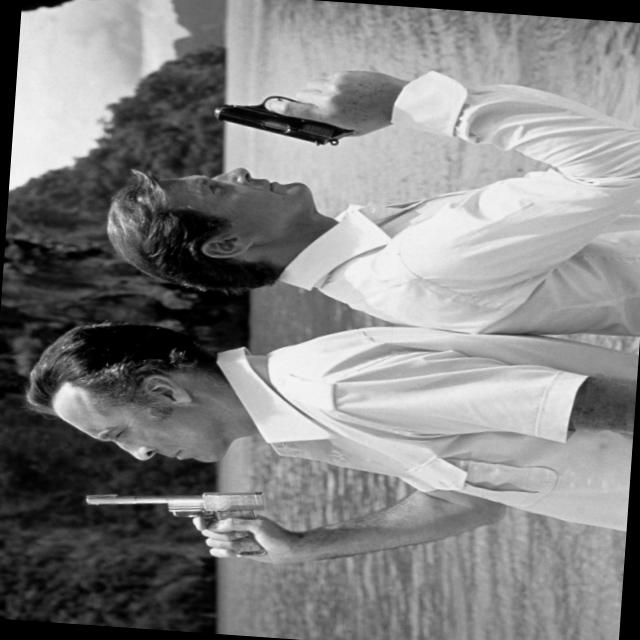handgun: (73, 478, 264, 576), (200, 73, 370, 169)
